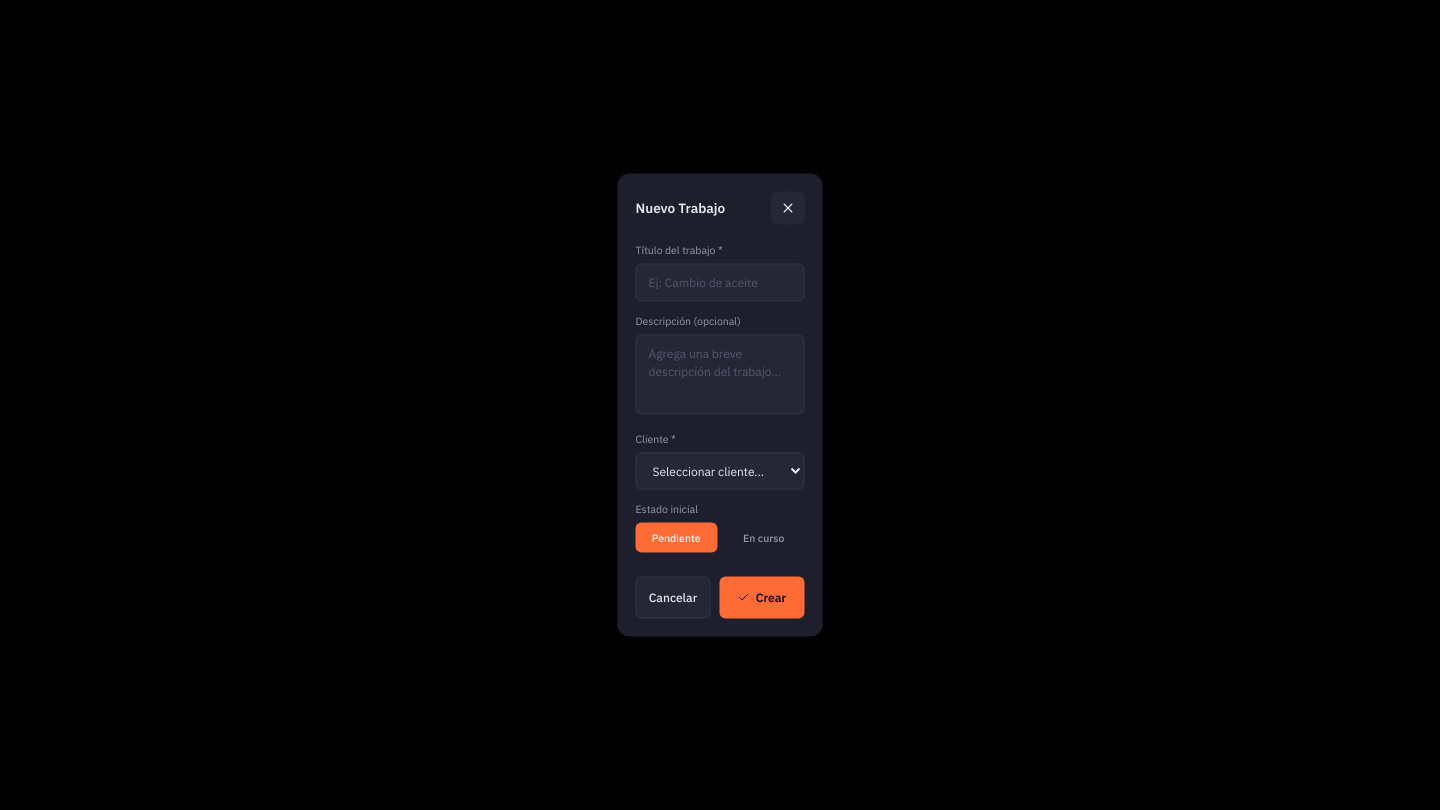
Scenario: TrabajoForm (caracterización) › crear: anticipo sin monto muestra el error y no envía nada
Type "Cambio de aceite" into the field with placeholder "Ej: Cambio de aceite" at point(720, 282), box [636,264,804,302]
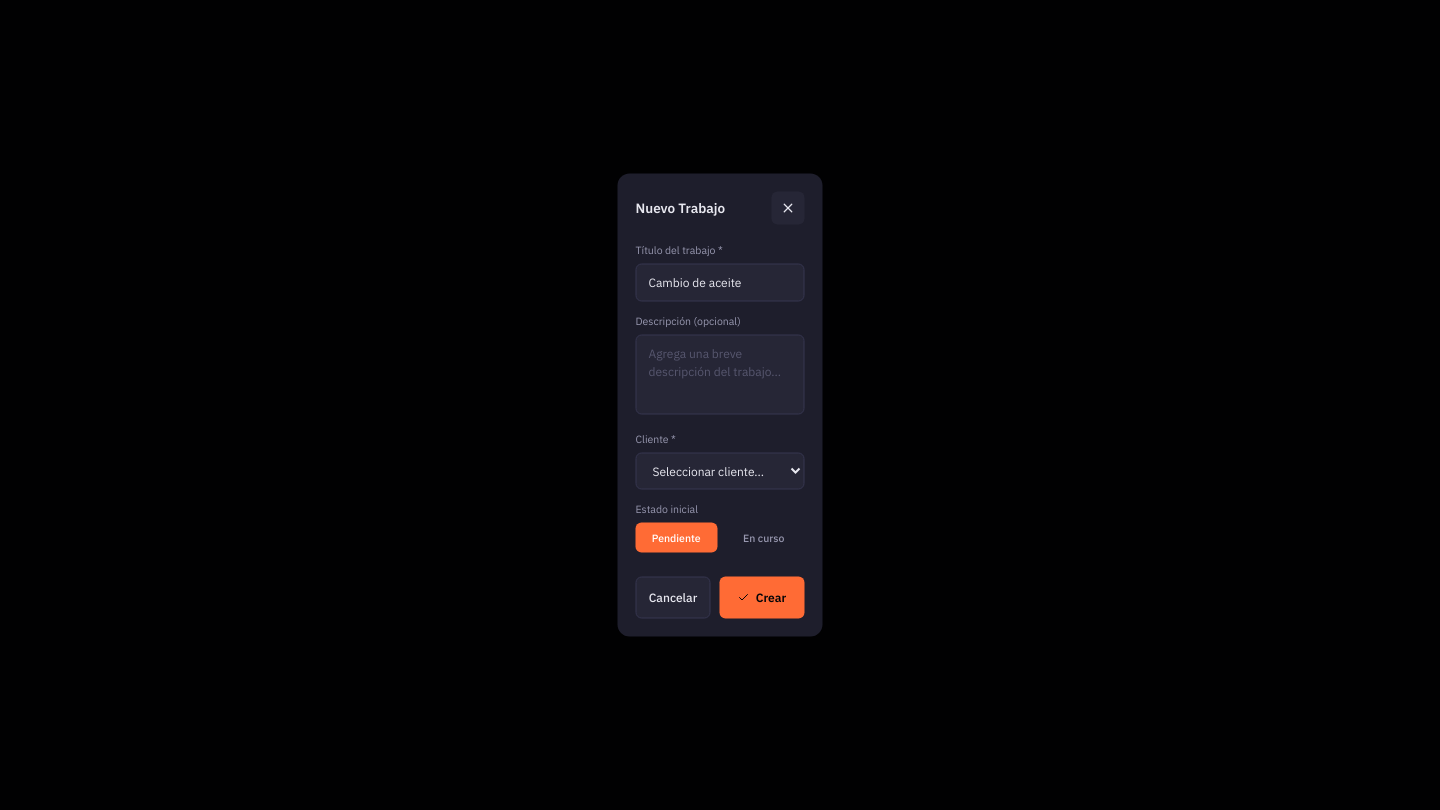
Select "Cliente A" in the dropdown at point(720, 471), box [636,452,804,490]
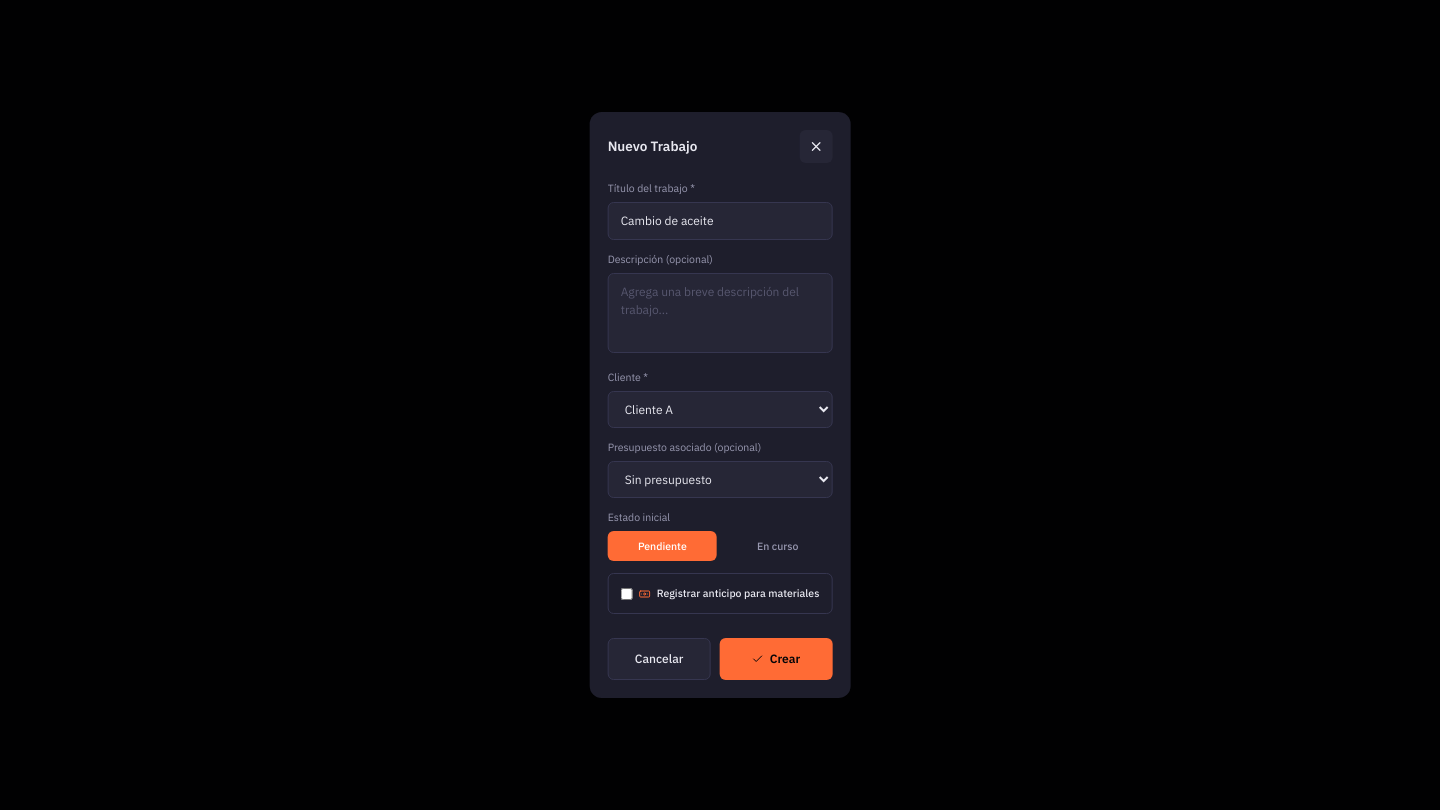
Click the checkbox labelled "Registrar anticipo para materiales" at point(627, 594), box [621,588,633,600]
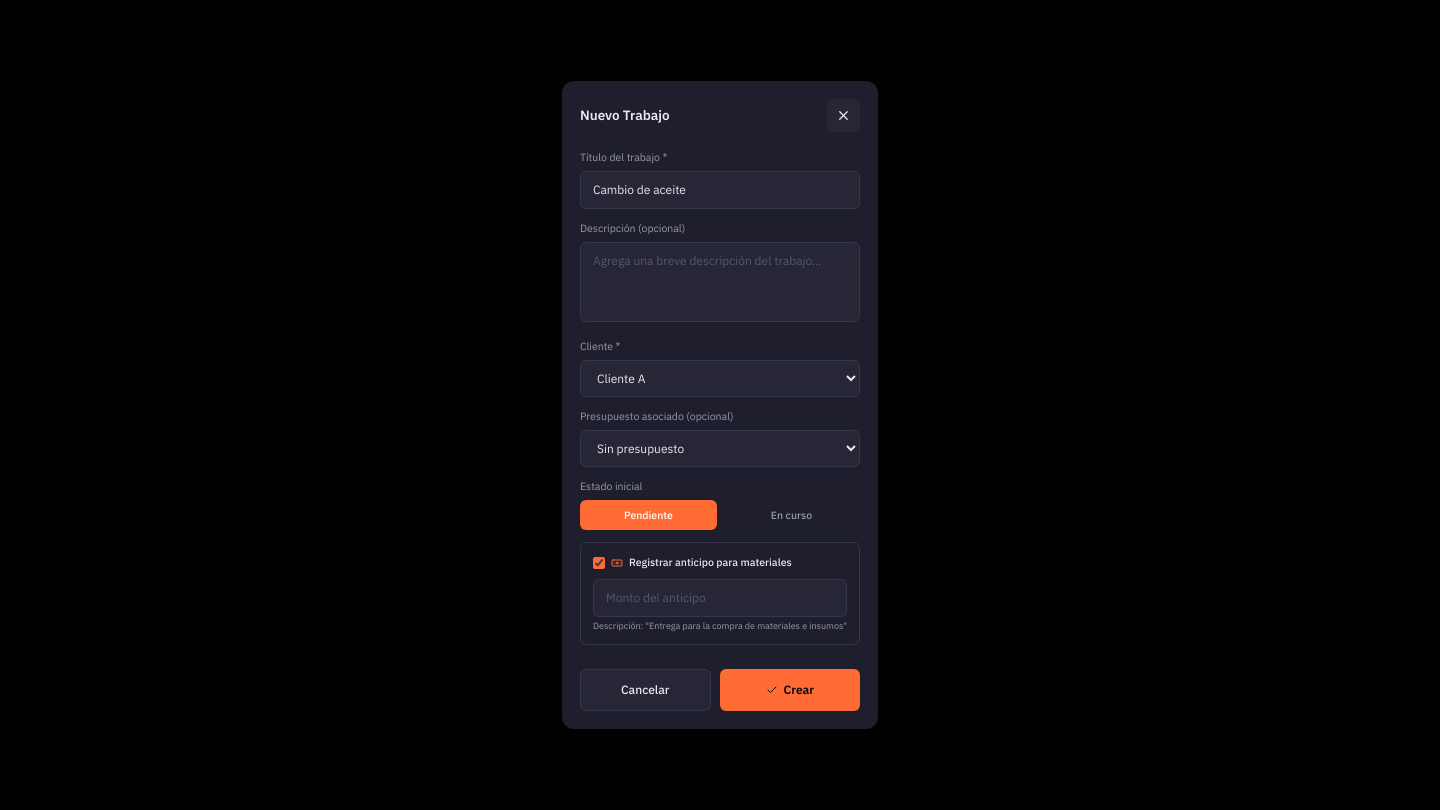
Click the button "Crear" at point(790, 690), box [720,669,860,711]
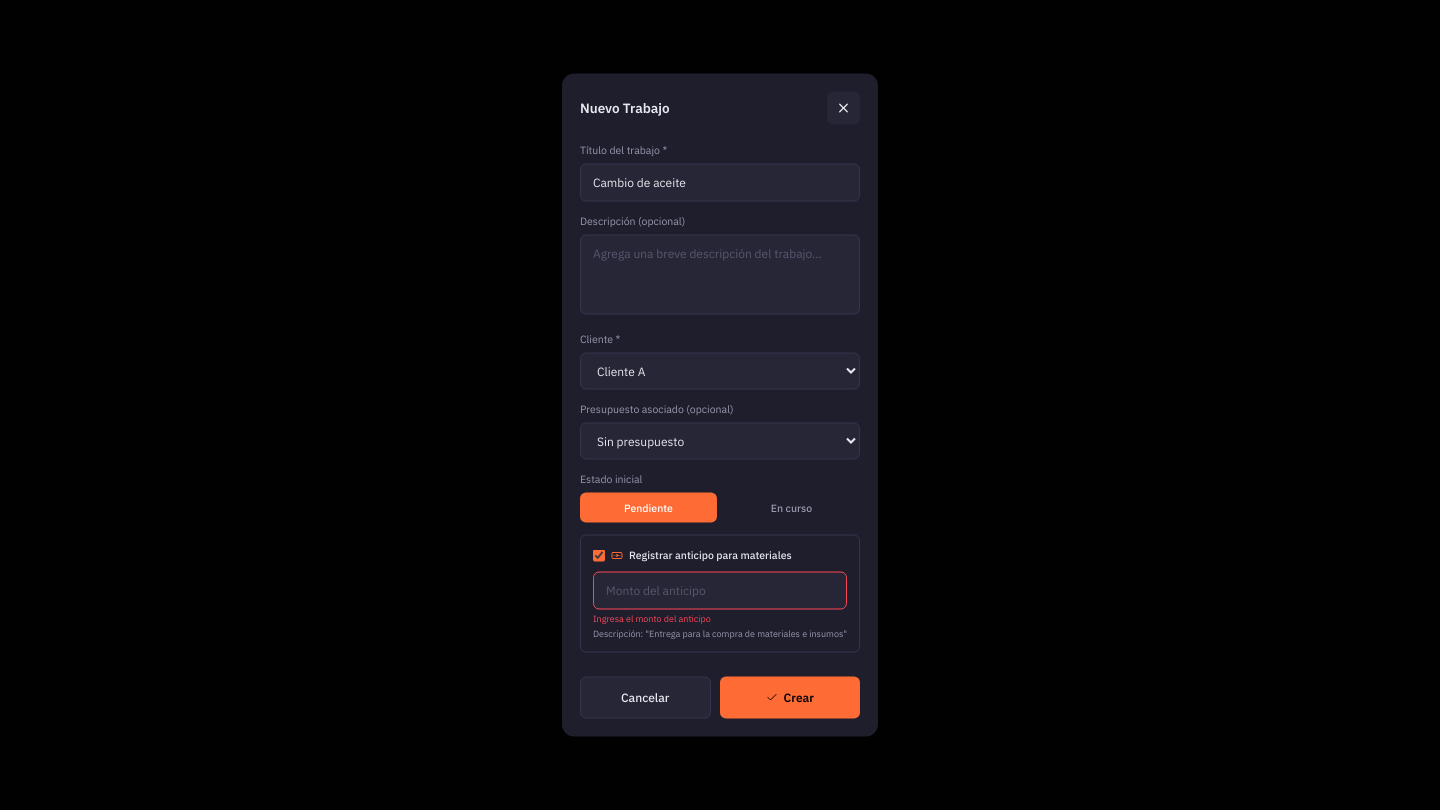
Expected: the text "Ingresa el monto del anticipo" is shown, [593,612,711,624]
